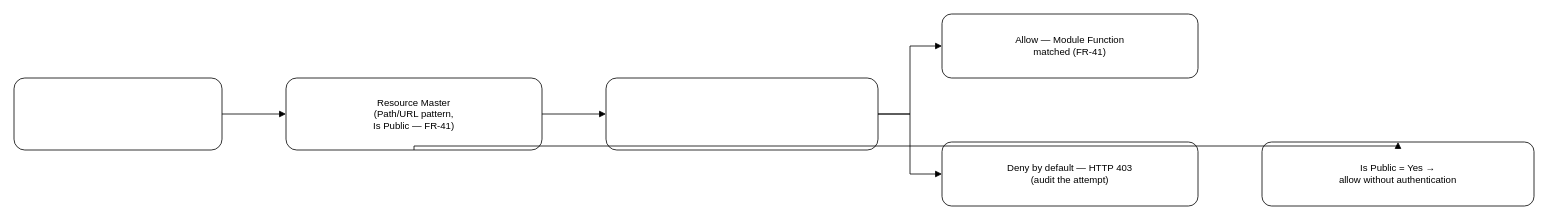
This 1548x220 diagram has some shape labels left out. The centre of each missing label's shape, as x and y in pixels:
"Request (API / URL)" belongs at (117,113).
"Role–Module–Function (session roles → claims FR-38, FR-50)" belongs at (741,113).
